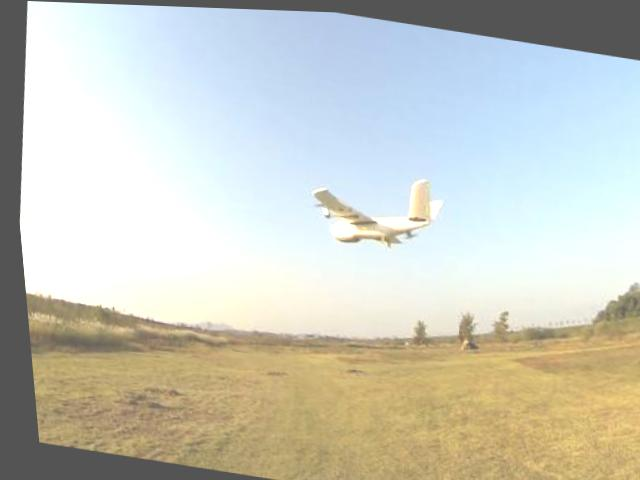uav: (296, 153, 458, 272)
